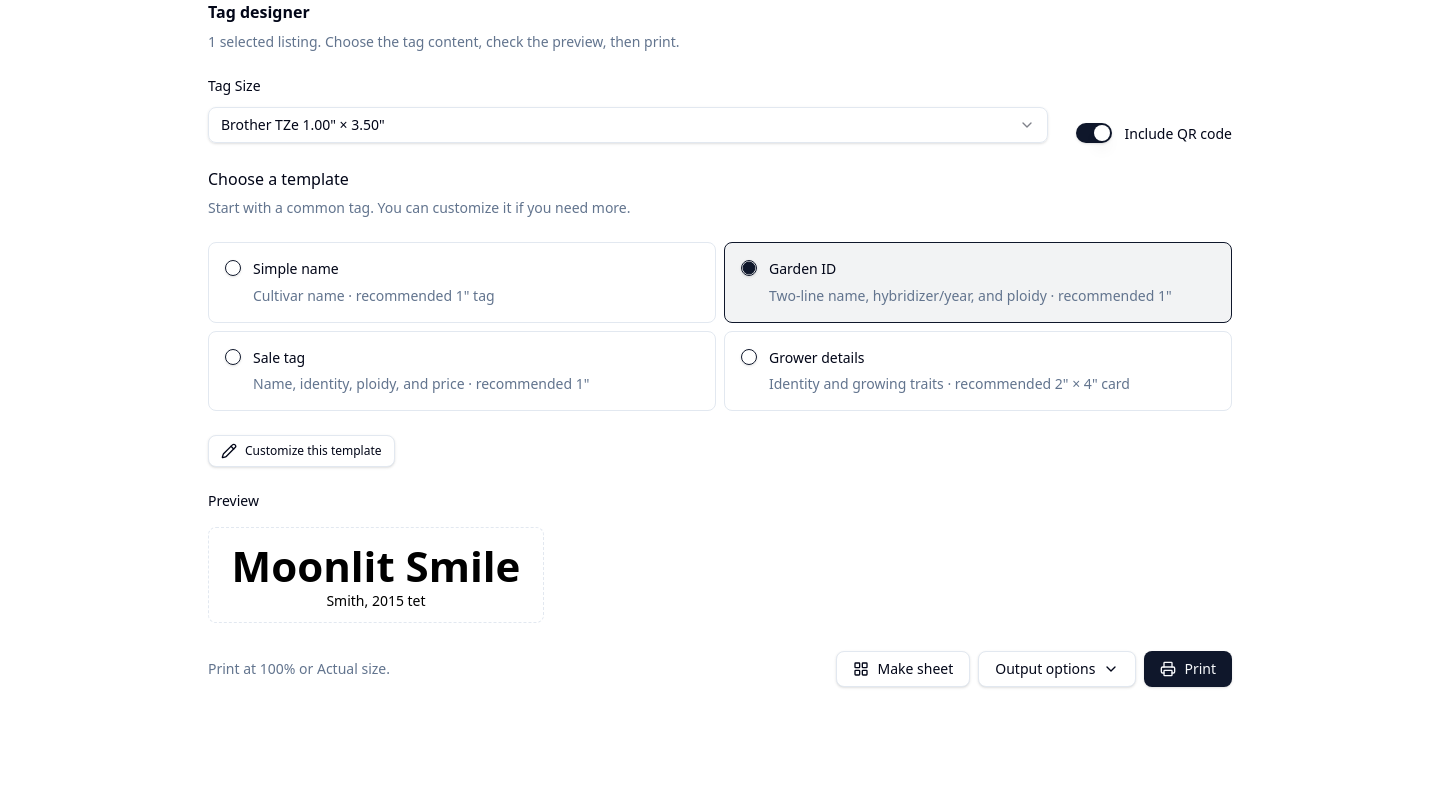
TagDesignerPanel › defers numeric validation until blur and supports +/- buttons
Click the button "Make sheet": (903, 669) [836, 651, 970, 687]
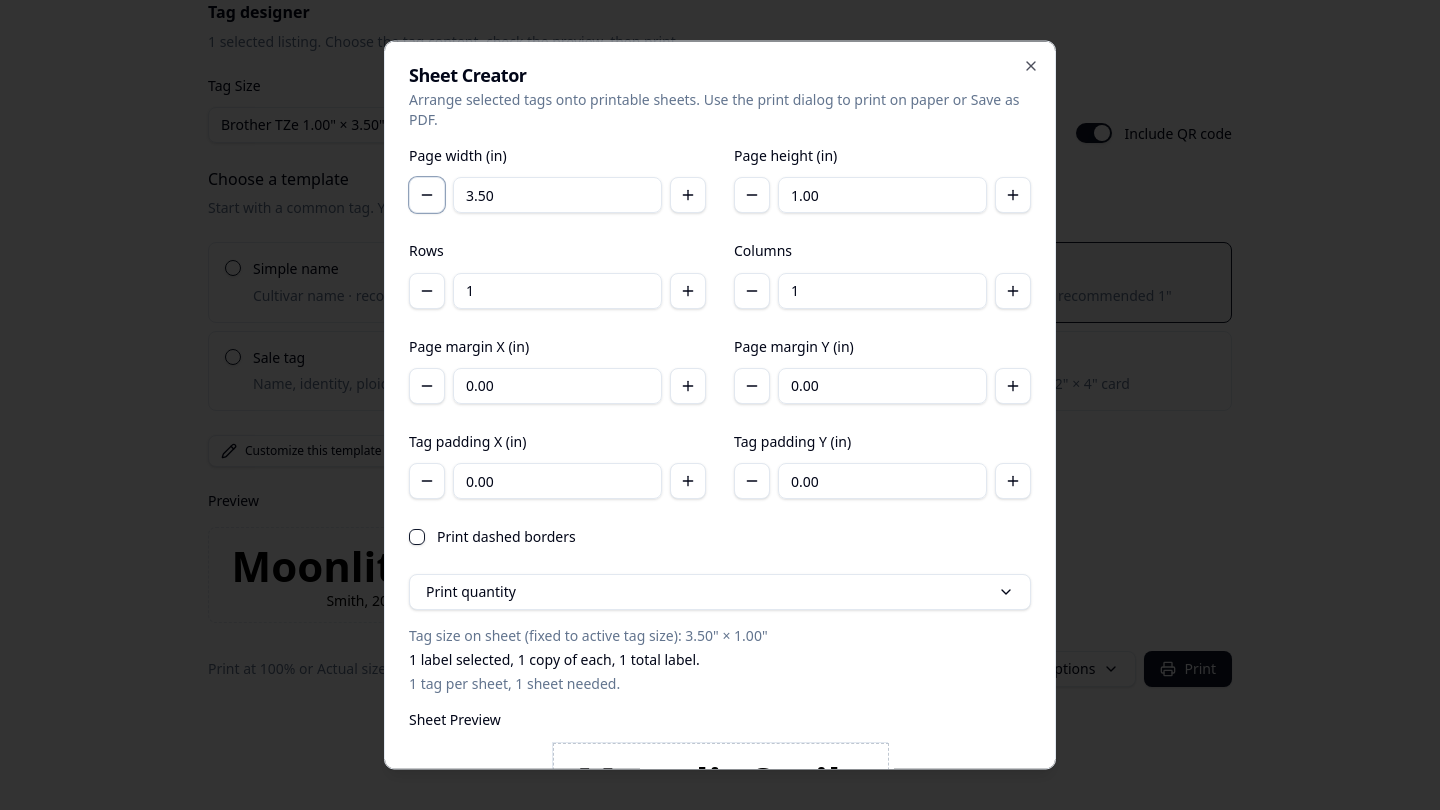
Clear the number field labelled "Rows": (558, 290) [453, 272, 662, 308]
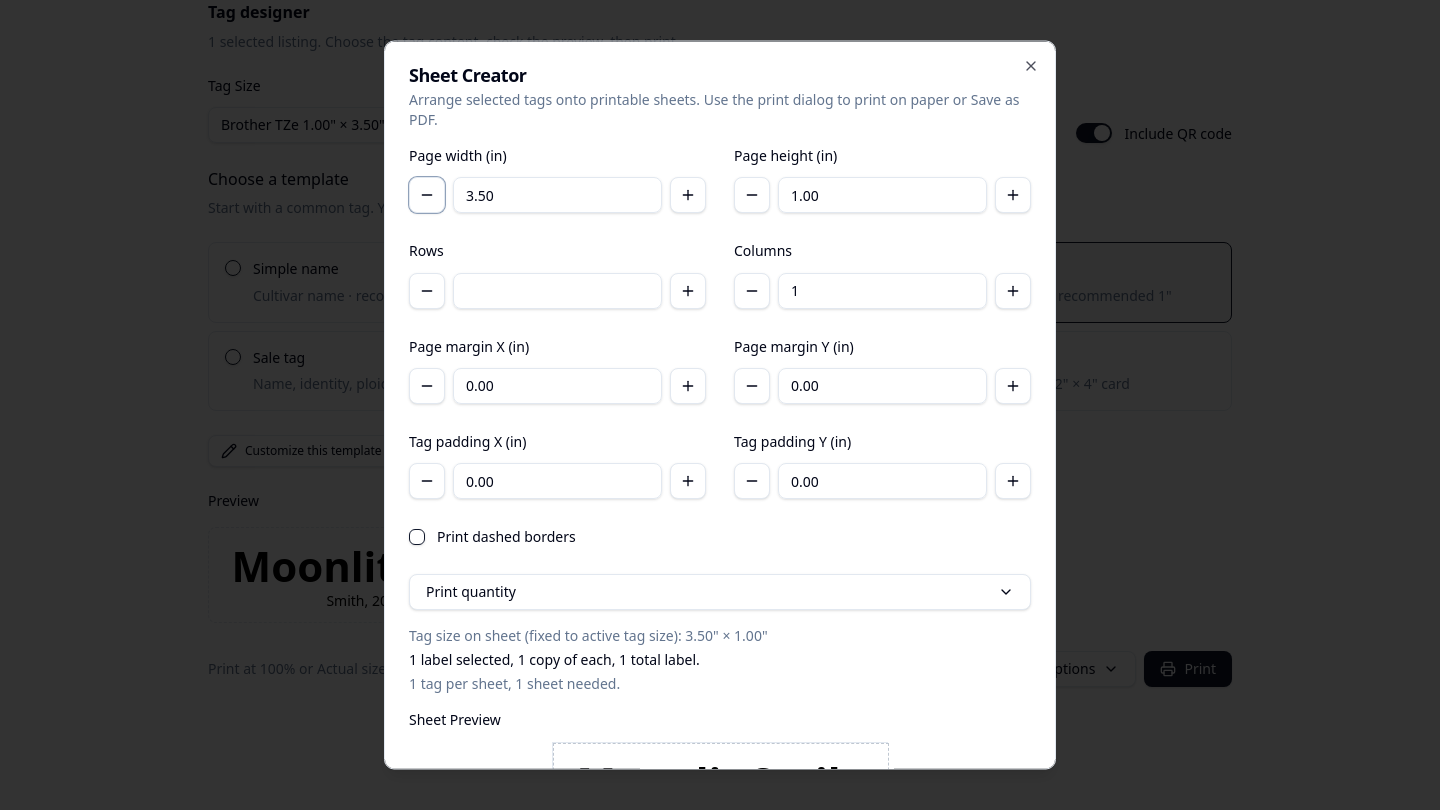
Check: the text "Enter a whole number between 1 and 20" is not shown
Leave the number field labelled "Rows", box [453, 272, 662, 308]
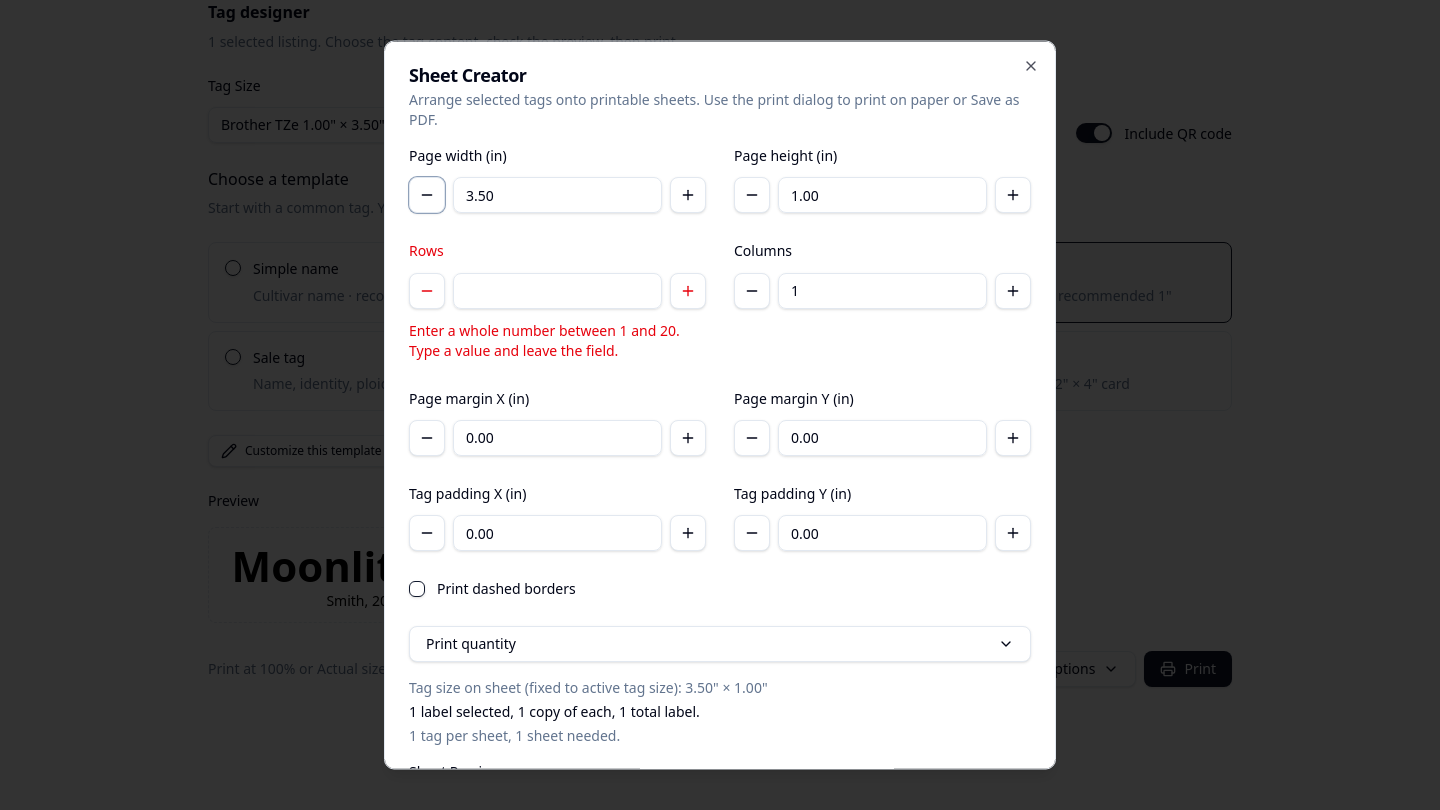
Check: the text "Enter a whole number between 1 and 20. Type a value and leave the field." is shown, box [409, 320, 706, 360]
Click the button named "Increase Rows": (688, 290) [670, 272, 706, 308]
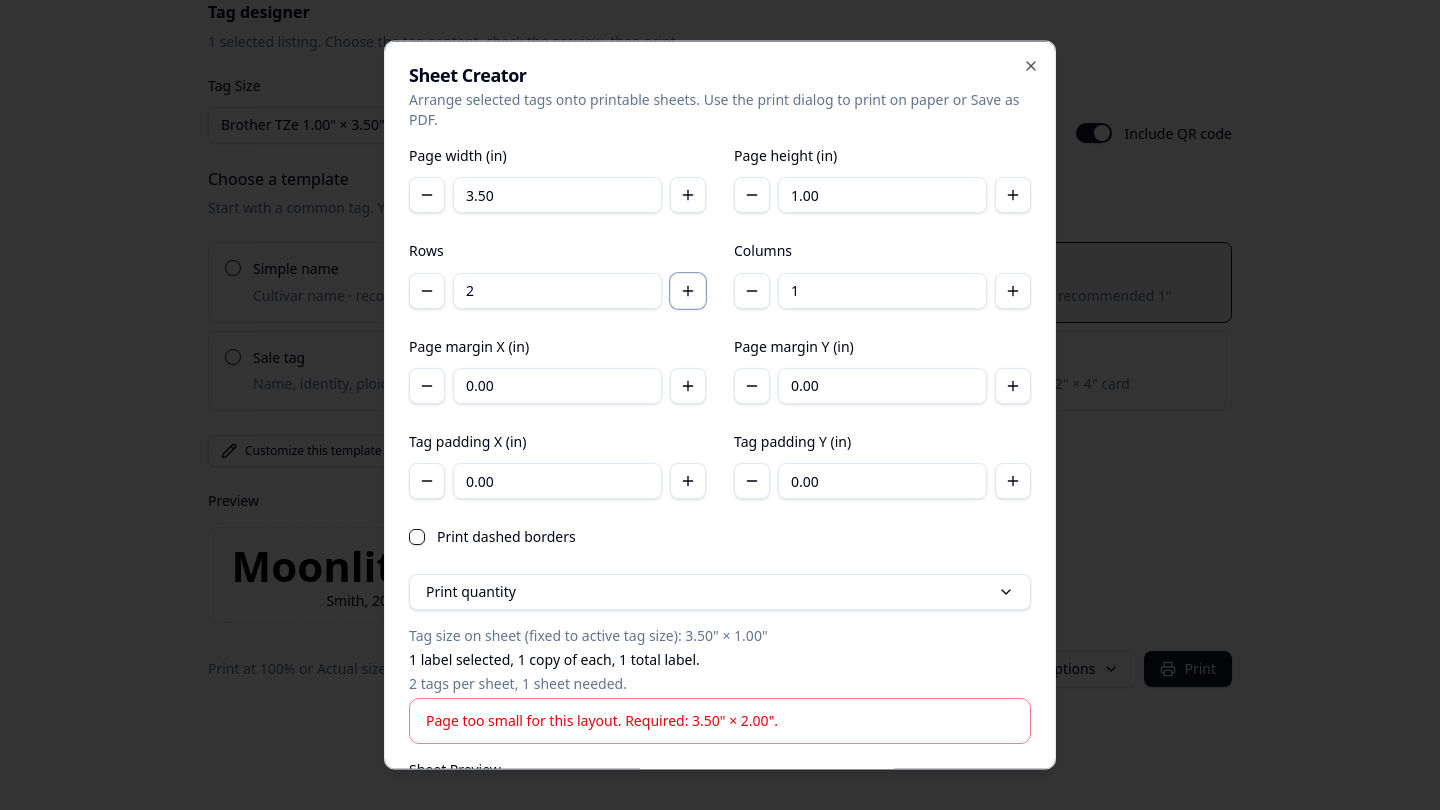
Check: the number field labelled "Rows" holds "2", box [453, 272, 662, 308]
Check: the text "Enter a whole number between 1 and 20" is gone
